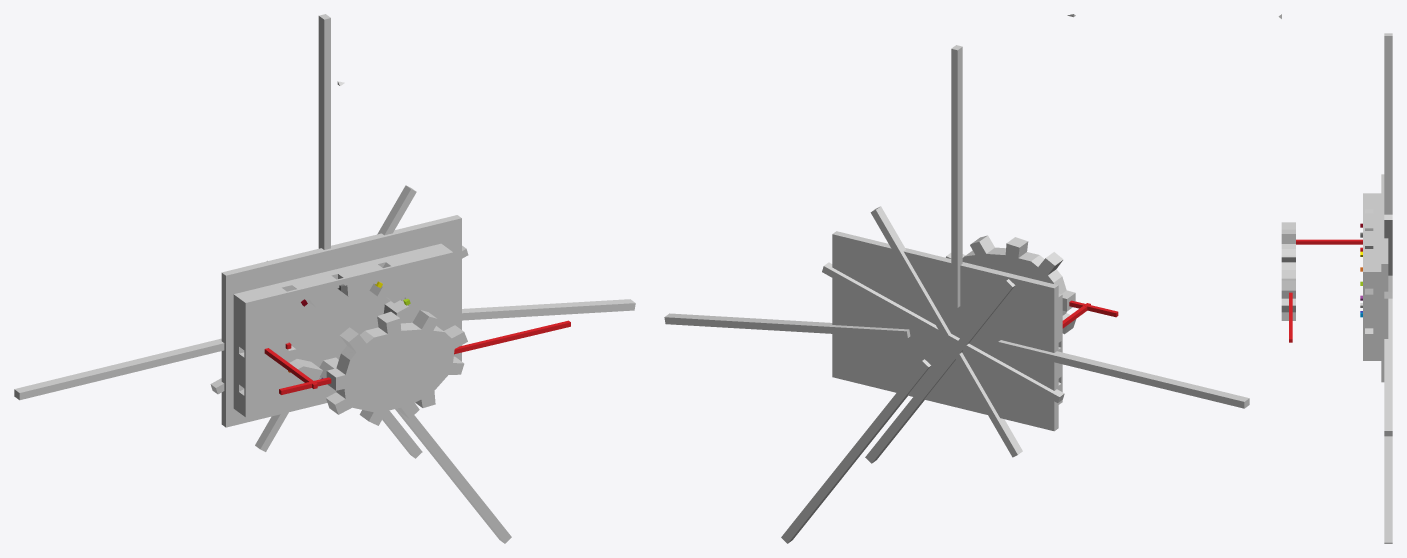
File: gate_v3.obj
The picture shows the model from 3 angles, left to right: view 1: azimuth 30°, elevation 25°; view 2: azimuth 150°, elevation 25°; view 3: azimuth 270°, elevation 25°; orthographic projection. The views are drawn at different scales.
Parts seen in each view (by area): view 1: Object.8, Object.2, Object.1, Object.4, Object.6, Object.3, Object.5, Object.7, Object.10; view 2: Object.2, Object.3, Object.1, Object.4, Object.6, Object.5, Object.7; view 3: Object.8, Object.4, Object.1, Object.2, Object.5, Object.7, Object.3, Object.19, Object.10.
Boxes of the visible parts, x1,y1,x2,y2 form: Object.8: (233, 243, 453, 417); Object.2: (221, 215, 461, 427); Object.1: (326, 310, 467, 425); Object.4: (318, 14, 330, 249); Object.6: (14, 338, 224, 400); Object.3: (210, 185, 468, 458); Object.5: (462, 299, 635, 320); Object.7: (395, 408, 511, 543); Object.10: (279, 320, 570, 394); Object.2: (832, 231, 1058, 431); Object.3: (822, 206, 1064, 463); Object.1: (946, 235, 1076, 334); Object.4: (951, 45, 962, 307); Object.6: (998, 340, 1249, 408); Object.5: (664, 313, 910, 338); Object.7: (781, 359, 930, 543); Object.8: (1363, 193, 1381, 360); Object.4: (1384, 33, 1392, 214); Object.1: (1281, 222, 1295, 320); Object.2: (1381, 174, 1388, 382); Object.5: (1384, 298, 1392, 436); Object.7: (1384, 436, 1392, 543); Object.3: (1384, 214, 1392, 298); Object.19: (1296, 239, 1362, 244); Object.10: (1289, 292, 1292, 342).
Bounding box in the file's own units: 750 × 661 × 155.
